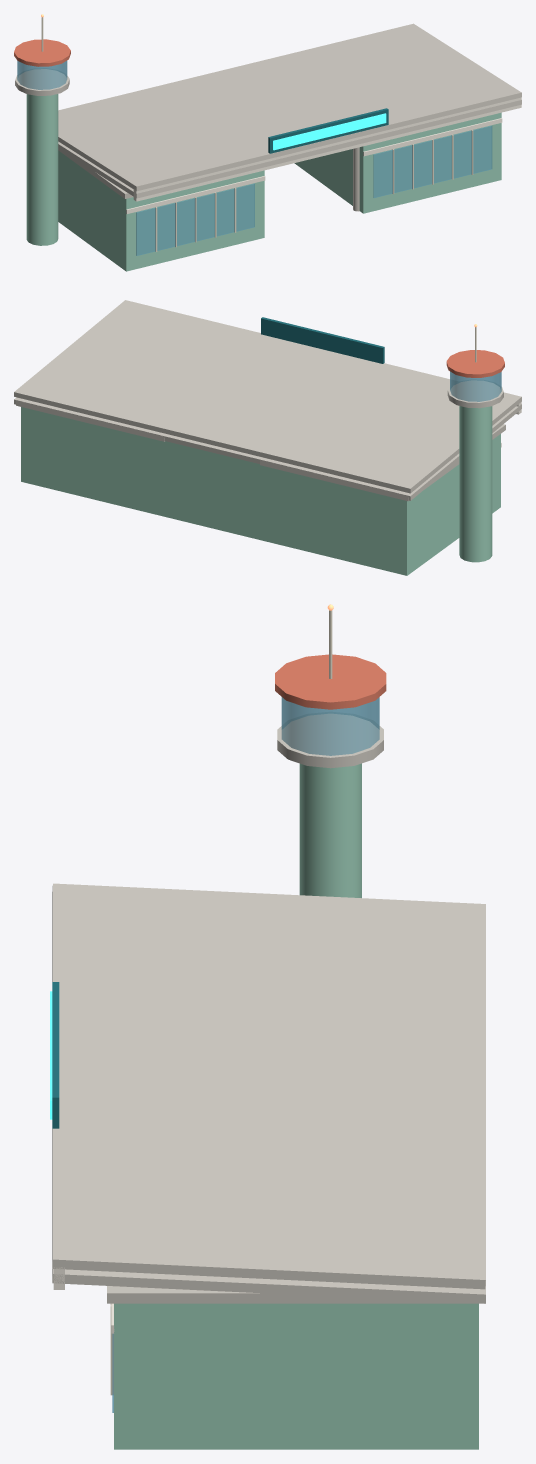
Rendered from lod_airport_terminal.glb.
The picture shows the model from 3 angles, top to bottom: view 1: azimuth 30°, elevation 25°; view 2: azimuth 150°, elevation 25°; view 3: azimuth 270°, elevation 25°; orthographic projection. The views are drawn at different scales.
Visible parts, largest first — view 1: lod_airport_terminal; view 2: lod_airport_terminal; view 3: lod_airport_terminal.
Boxes of the visible parts, box(x1,y1,x2,y2) form: lod_airport_terminal: box(14, 14, 521, 271); lod_airport_terminal: box(14, 300, 521, 575); lod_airport_terminal: box(50, 604, 485, 1449).
Size of the model in its own units: 44 by 21.74 by 19.1.
